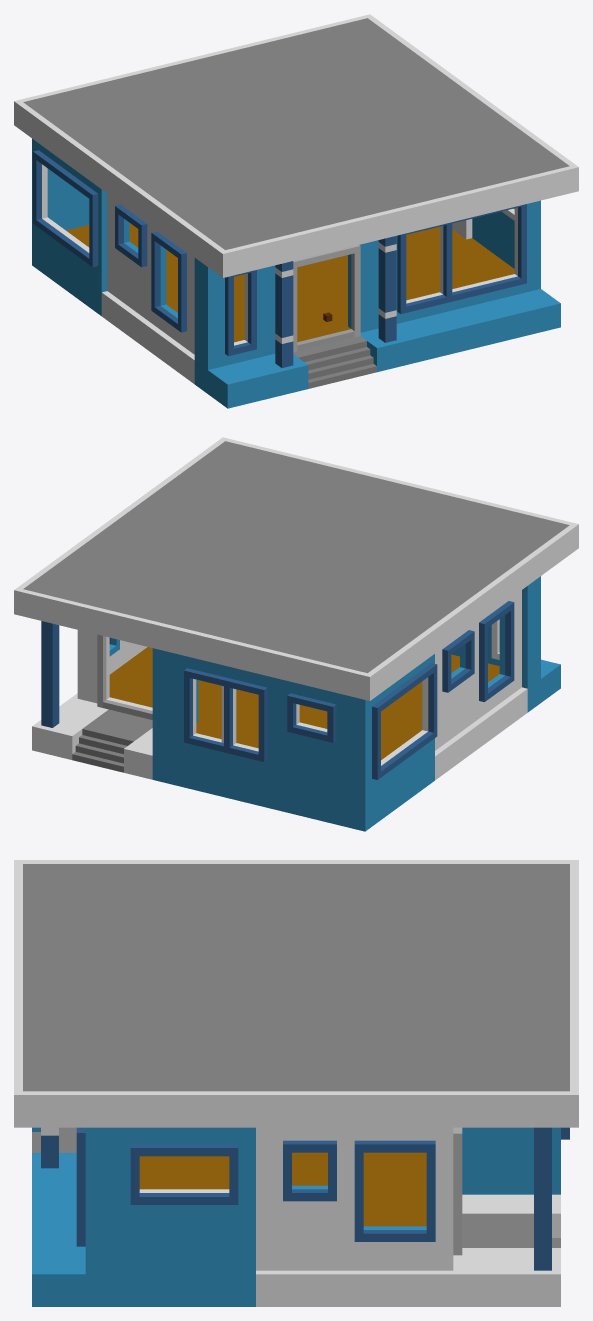
Rendered from obj_house1.obj.
3 renders of one model, top to bottom at view 1: azimuth 30°, elevation 25°; view 2: azimuth 150°, elevation 25°; view 3: azimuth 270°, elevation 25°, orthographic. The views are drawn at different scales.
Visible parts, largest first — view 1: obj_house1; view 2: obj_house1; view 3: obj_house1.
Boxes of the visible parts, x1=… form: obj_house1: x1=14, y1=14, x2=578, y2=408; obj_house1: x1=14, y1=437, x2=578, y2=831; obj_house1: x1=14, y1=860, x2=578, y2=1306.
Size of the model in its own units: 62 by 27 by 63.
Materials: 1 (1 with a texture image).
